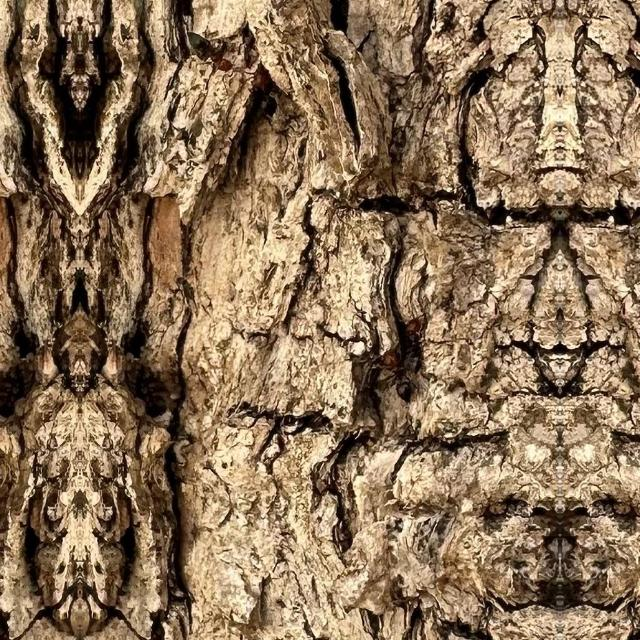Crematogaster: (404, 304, 441, 382), (185, 28, 232, 78), (378, 343, 412, 399), (250, 62, 282, 118)
